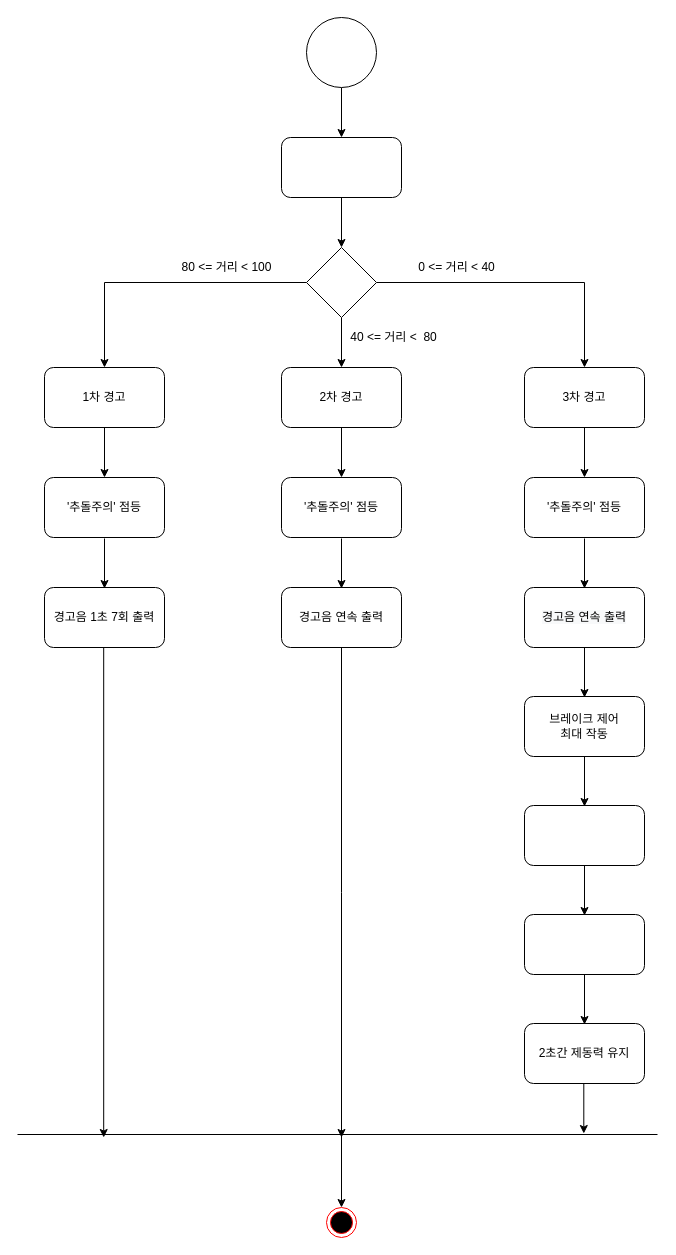
The diagram is 676 pixels wide and 1255 high, and some of its shapes have lost their labels. Here are the shapes that lost their labels. From the top down, the box of each, then its label:
(280, 136, 402, 198): 거리 감지
(524, 804, 644, 866): 브레이크 등 점등
(524, 914, 644, 974): '긴급제동 종료' 점등
